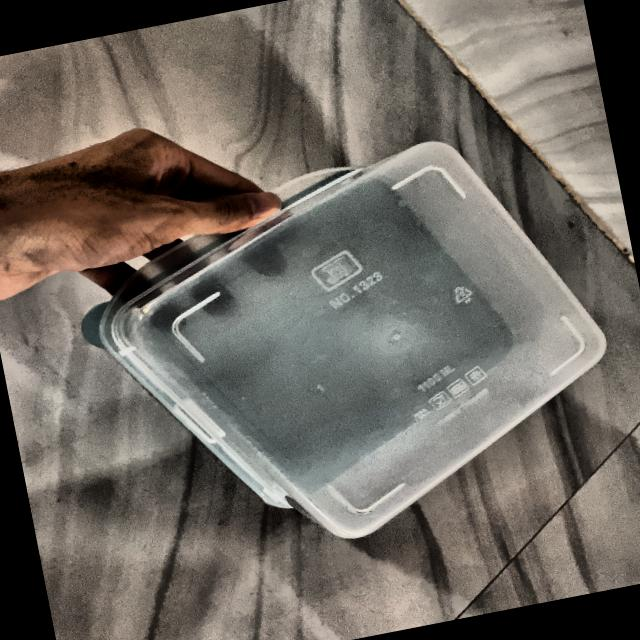plastic container: (67, 106, 634, 583)
